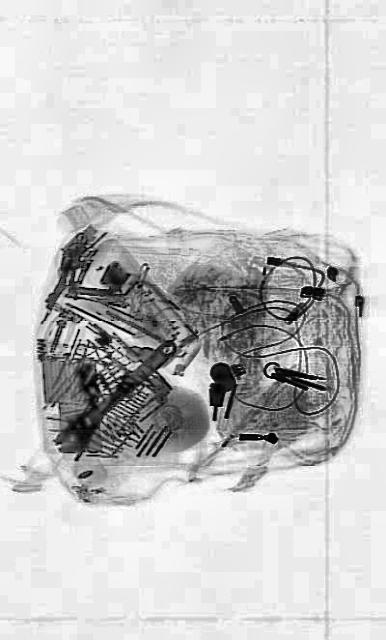Wrench: (50, 326, 180, 464)
